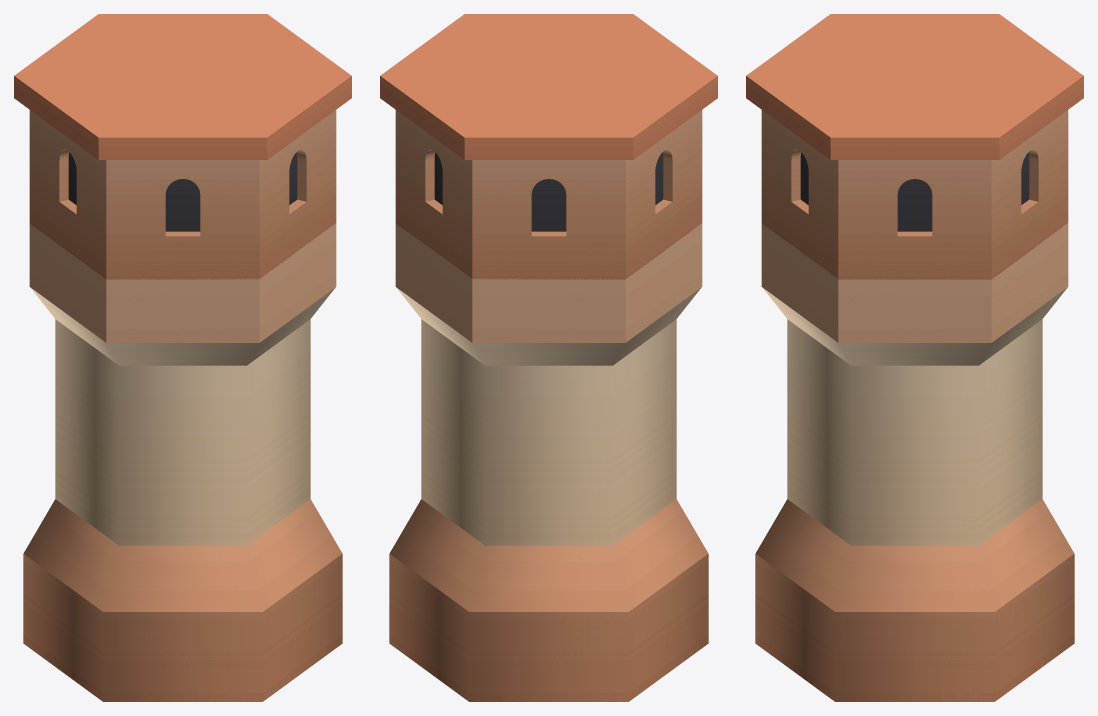
File: hex_tower_section.glb
3 renders of one model, left to right at view 1: azimuth 30°, elevation 25°; view 2: azimuth 150°, elevation 25°; view 3: azimuth 270°, elevation 25°, orthographic.
Parts seen in each view (by area): view 1: tower-hexagon-mid; view 2: tower-hexagon-mid; view 3: tower-hexagon-mid.
Part boxes in pixels (x1=…): tower-hexagon-mid: x1=14, y1=14, x2=351, y2=701; tower-hexagon-mid: x1=380, y1=14, x2=717, y2=701; tower-hexagon-mid: x1=746, y1=14, x2=1083, y2=701.
Bounding box in the file's own units: 0.8248 × 1.77 × 0.9524.
2 materials, 2 textured.
